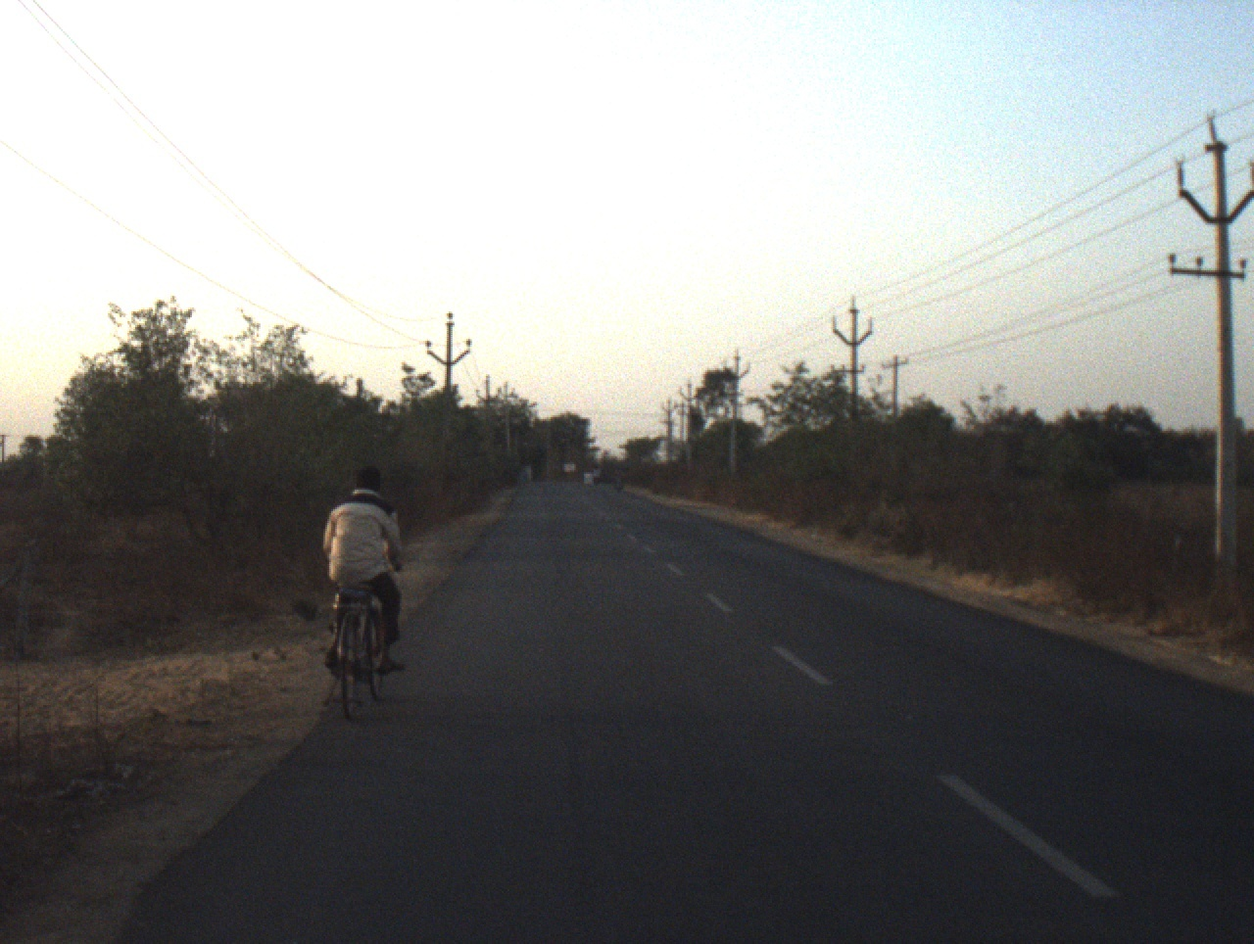bicycle: (323, 565, 396, 724), (591, 474, 601, 487)
motorcycle: (611, 475, 624, 492)
rider: (319, 463, 408, 675), (616, 469, 625, 484), (591, 466, 601, 478)
vehicle fallback: (582, 470, 597, 485)
